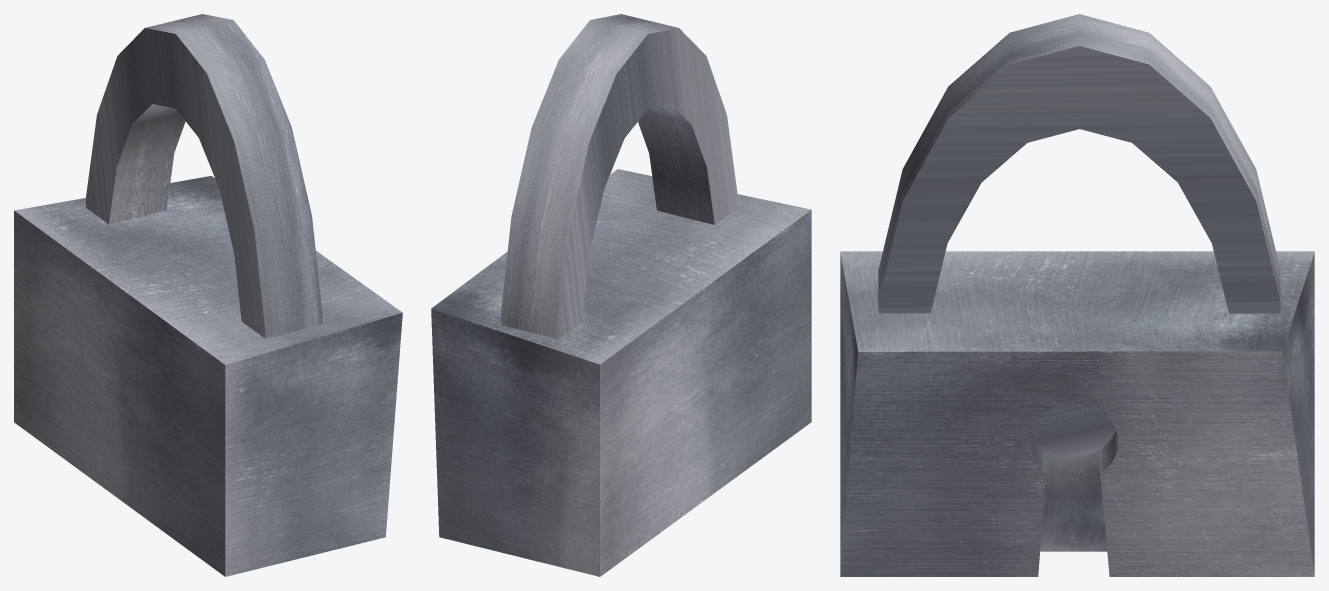
Rendered from Lock Textured.fbx.
The picture shows the model from 3 angles, left to right: view 1: azimuth 30°, elevation 25°; view 2: azimuth 150°, elevation 25°; view 3: azimuth 270°, elevation 25°; orthographic projection. The views are drawn at different scales.
Visible parts, largest first — view 1: Cylinder001; view 2: Cylinder001; view 3: Cylinder001.
Part boxes in pixels (x1=…): Cylinder001: x1=14, y1=14, x2=402, y2=576; Cylinder001: x1=431, y1=14, x2=811, y2=576; Cylinder001: x1=840, y1=14, x2=1314, y2=576.
Bounding box in the file's own units: 12.98 × 30.15 × 25.59.
Materials: 1 (1 with a texture image).
